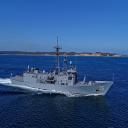Fragata: (11, 33, 115, 98)
